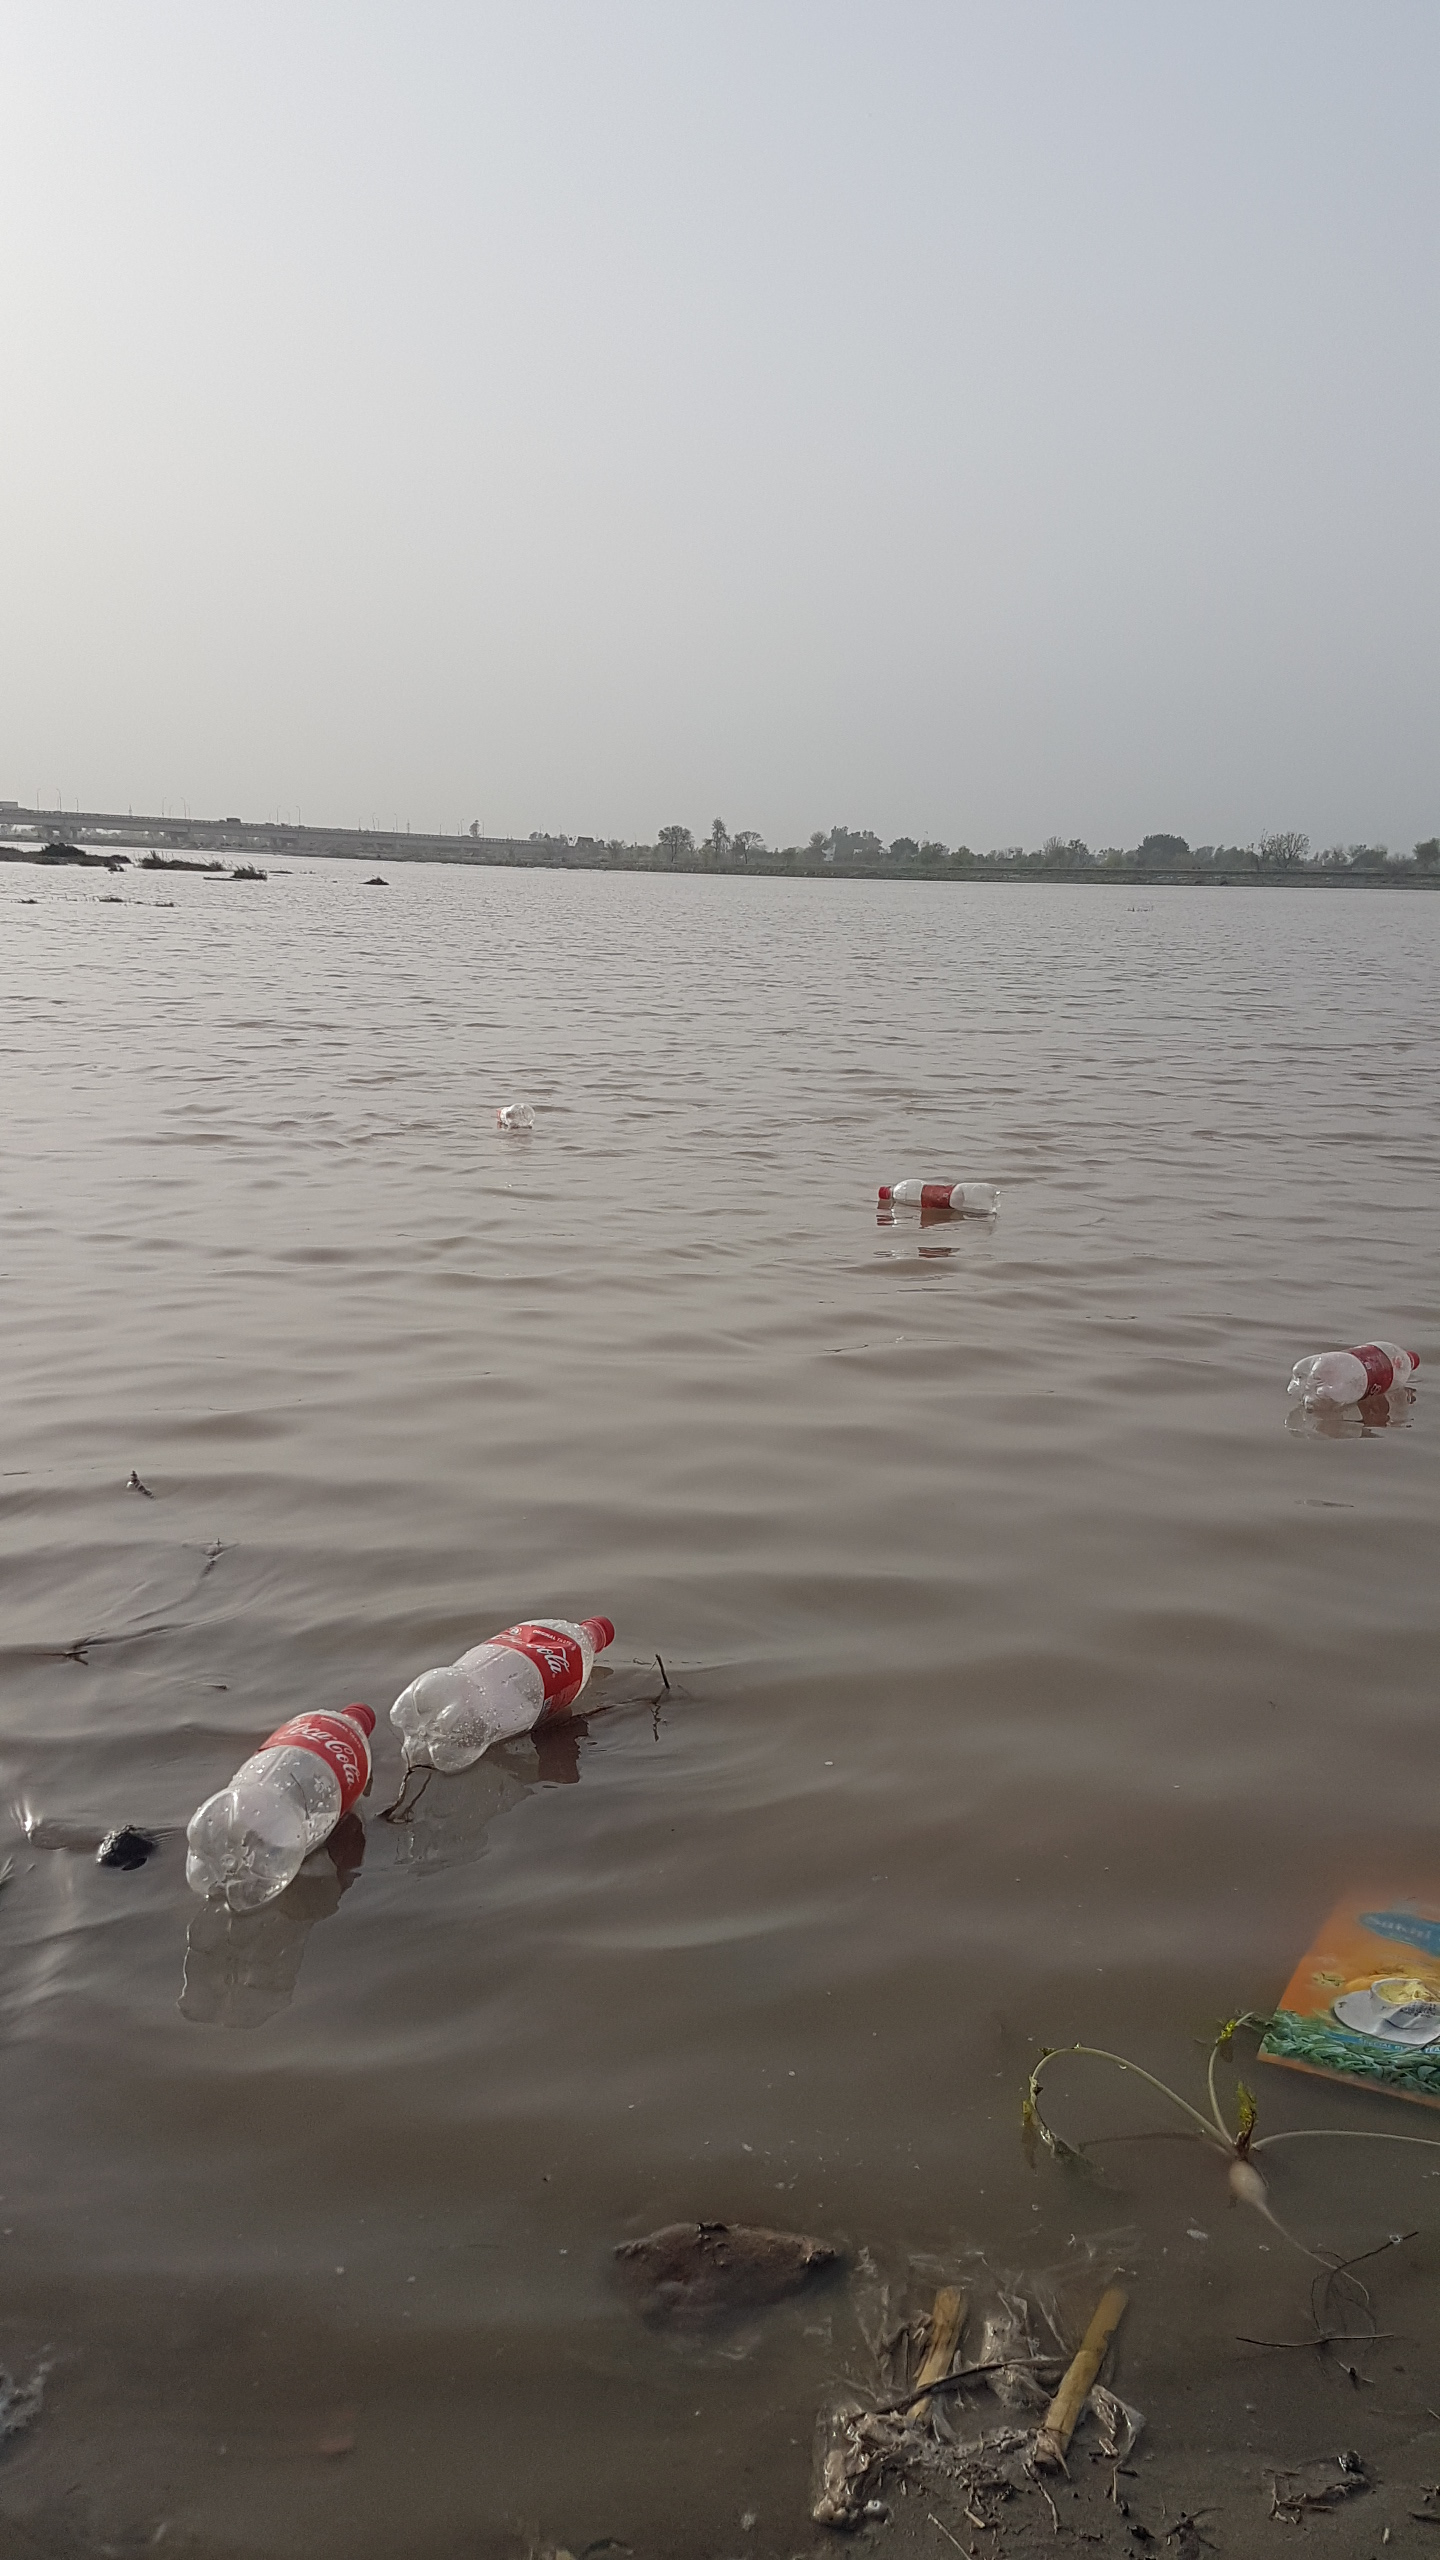Plastic Bottle: (186, 1702, 376, 1909), (389, 1618, 615, 1771), (1287, 1342, 1419, 1407), (879, 1176, 999, 1215), (496, 1102, 535, 1127)
